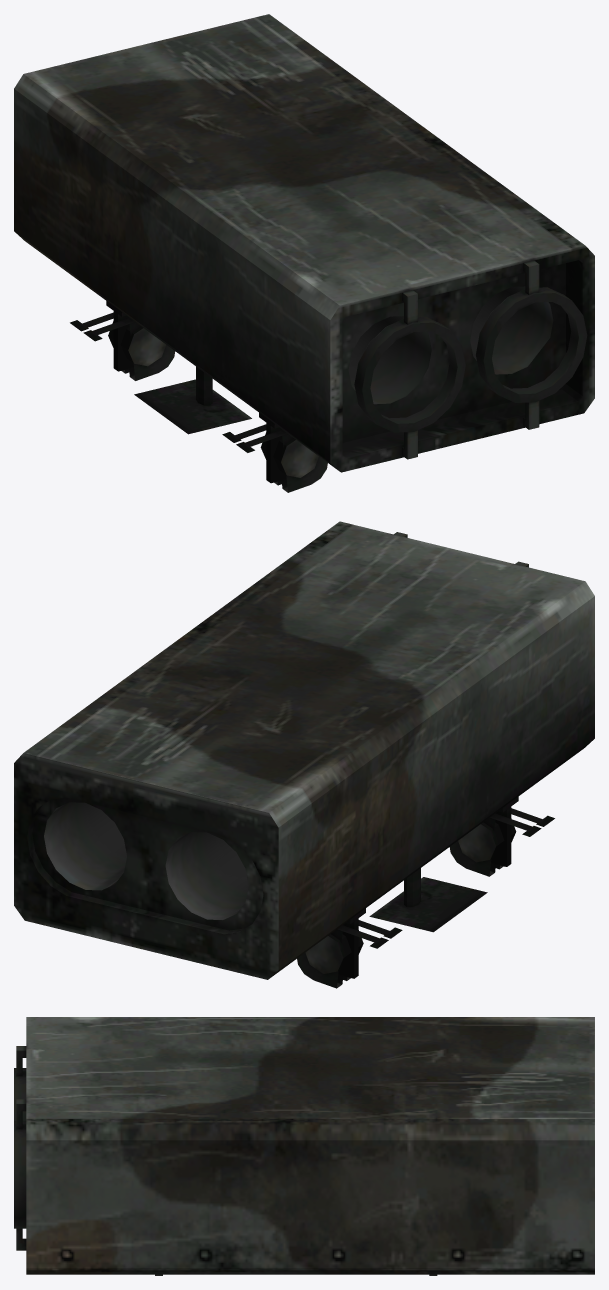
File: rltt.FBX
3 views of the same model, one above another, from view 1: azimuth 30°, elevation 25°; view 2: azimuth 150°, elevation 25°; view 3: azimuth 270°, elevation 25° (orthographic). The views are drawn at different scales.
Parts seen in each view (by area): view 1: turret01; view 2: turret01; view 3: turret01.
Boxes of the visible parts, x1,y1,x2,y2 form: turret01: [14, 14, 594, 492]; turret01: [14, 521, 594, 988]; turret01: [14, 1017, 594, 1275].
Bounding box in the file's own units: 0.7239 × 0.5782 × 1.42.
